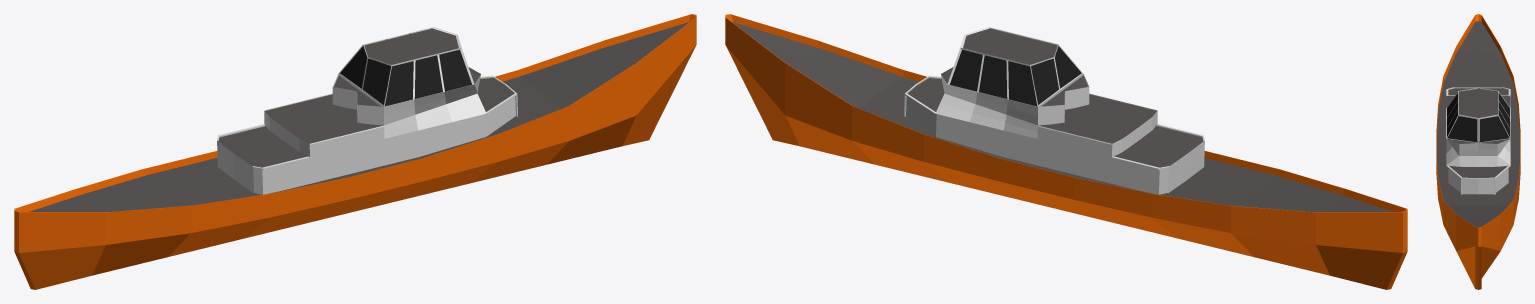
File: ship.fbx
3 views of the same model, side by side, from view 1: azimuth 30°, elevation 25°; view 2: azimuth 150°, elevation 25°; view 3: azimuth 270°, elevation 25° (orthographic). The views are drawn at different scales.
Visible parts, largest first — view 1: Cube; view 2: Cube; view 3: Cube.
Part boxes in pixels (box(x1,y1,x2,y2)): Cube: box(14, 14, 696, 289); Cube: box(725, 14, 1407, 289); Cube: box(1436, 14, 1520, 289).
Size of the model in its own units: 260 by 1710 by 360.
